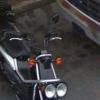Motorcycle: (4, 24, 73, 100)
